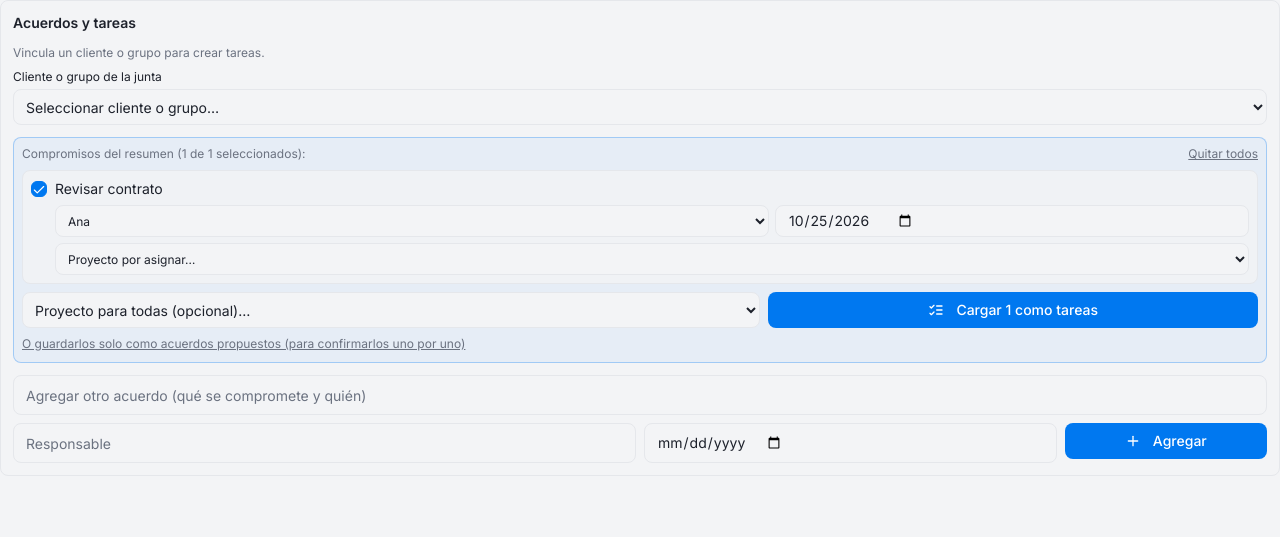
Scenario: MtgAgreementsIntake grupos › también permite vincular un cliente individual
Select "Empresa B" in the dropdown labelled "Cliente o grupo de la junta" at (640,107), box x1=13 y1=89 x2=1267 y2=125
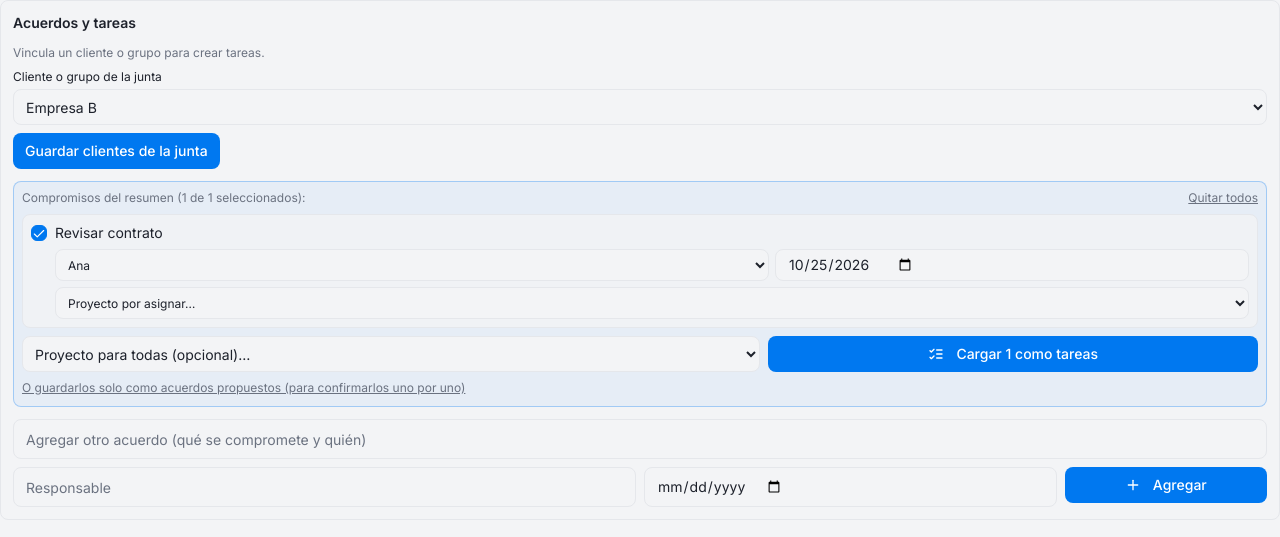
Click the button "Guardar clientes de la junta" at (116,151), box x1=13 y1=133 x2=220 y2=169
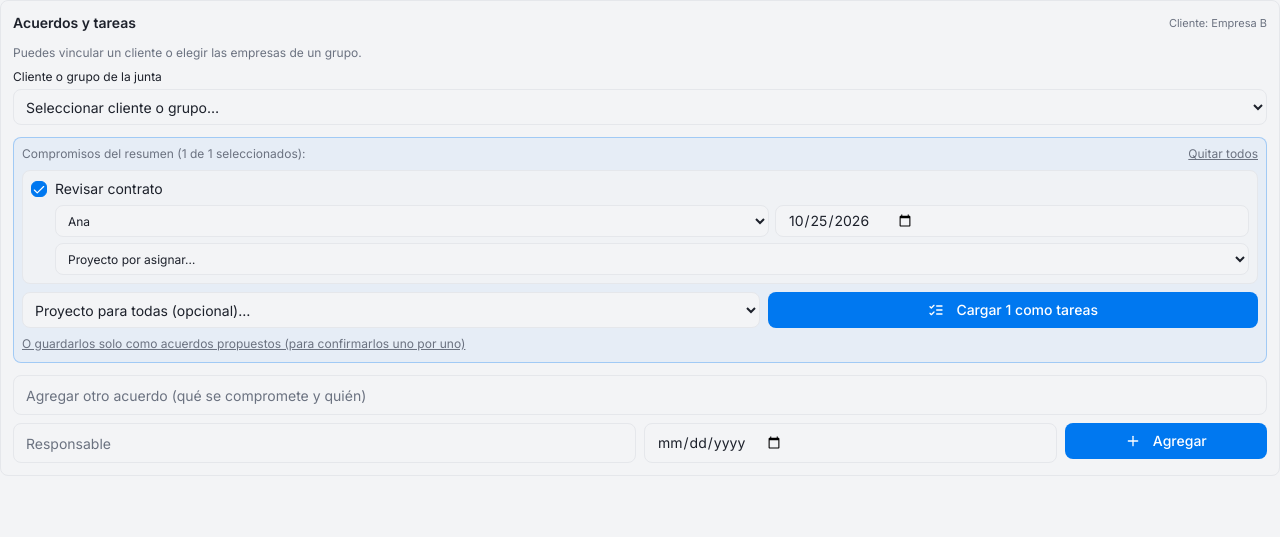
Expected: the text "Cliente: Empresa B" is shown, x1=1169 y1=15 x2=1267 y2=31
